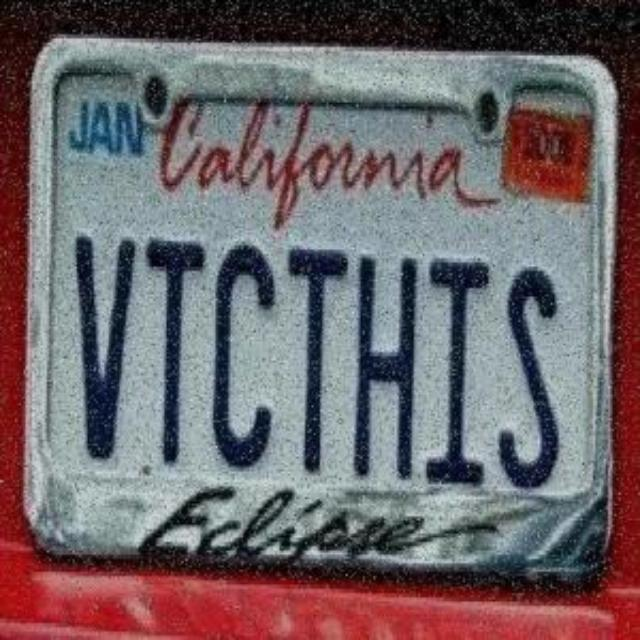License Plate: (8, 12, 624, 622)
